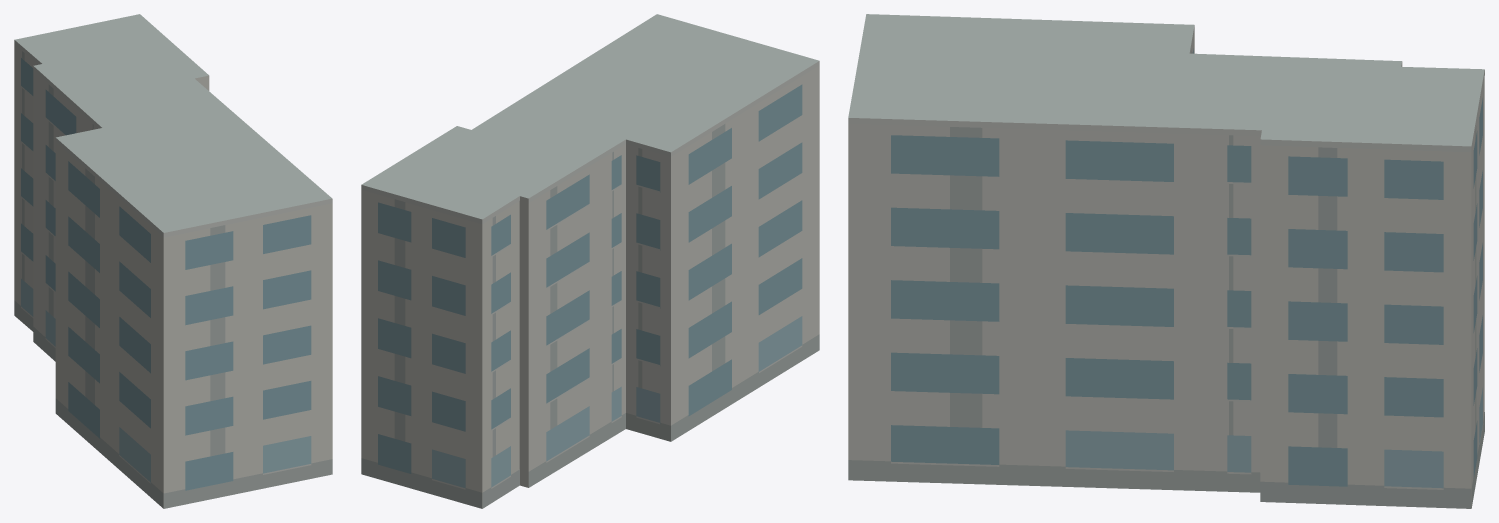
The model's file is survey-upis-32766837.glb.
3 views of the same model, side by side, from view 1: azimuth 30°, elevation 25°; view 2: azimuth 150°, elevation 25°; view 3: azimuth 270°, elevation 25° (orthographic). The views are drawn at different scales.
Parts seen in each view (by area): view 1: survey-upis-32766837.tmp; view 2: survey-upis-32766837.tmp; view 3: survey-upis-32766837.tmp.
Part boxes in pixels (<box>): survey-upis-32766837.tmp: <box>14,14,332,508</box>; survey-upis-32766837.tmp: <box>361,14,819,508</box>; survey-upis-32766837.tmp: <box>848,14,1484,508</box>.
Bounding box in the file's own units: 11.53 × 14.7 × 23.41.
